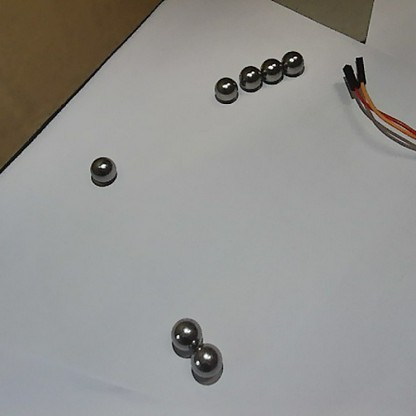ironball: (186, 339, 223, 383), (167, 314, 203, 352), (209, 73, 242, 103), (239, 63, 266, 98), (257, 56, 285, 88), (277, 46, 305, 76), (88, 155, 116, 184)
